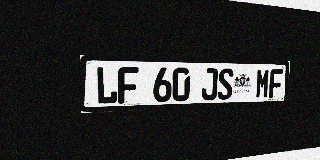0: (172, 68, 190, 102)
6: (153, 67, 172, 102)
F: (118, 67, 138, 104), (269, 69, 283, 98)
J: (201, 68, 218, 101)
L: (96, 66, 117, 105)
M: (255, 69, 270, 99)
S: (217, 68, 234, 100)
